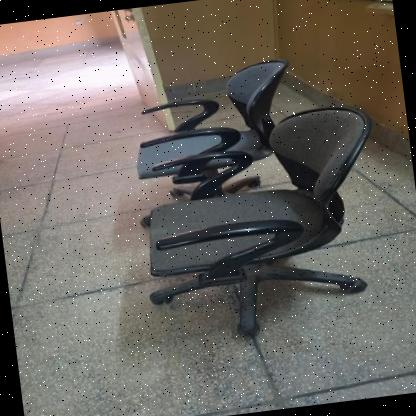chair: (124, 93, 402, 355), (120, 46, 316, 206)
